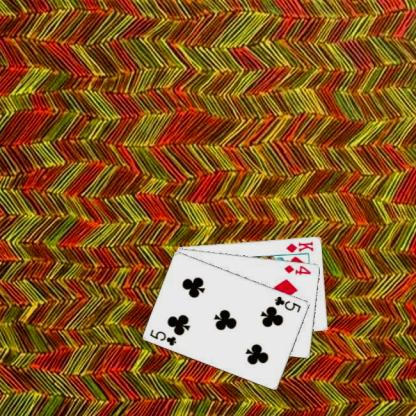4D: (282, 262, 312, 276)
5C: (272, 293, 303, 314), (147, 326, 178, 347)
KD: (283, 239, 315, 254)
